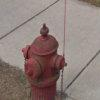Hydrant: (15, 18, 69, 96)
